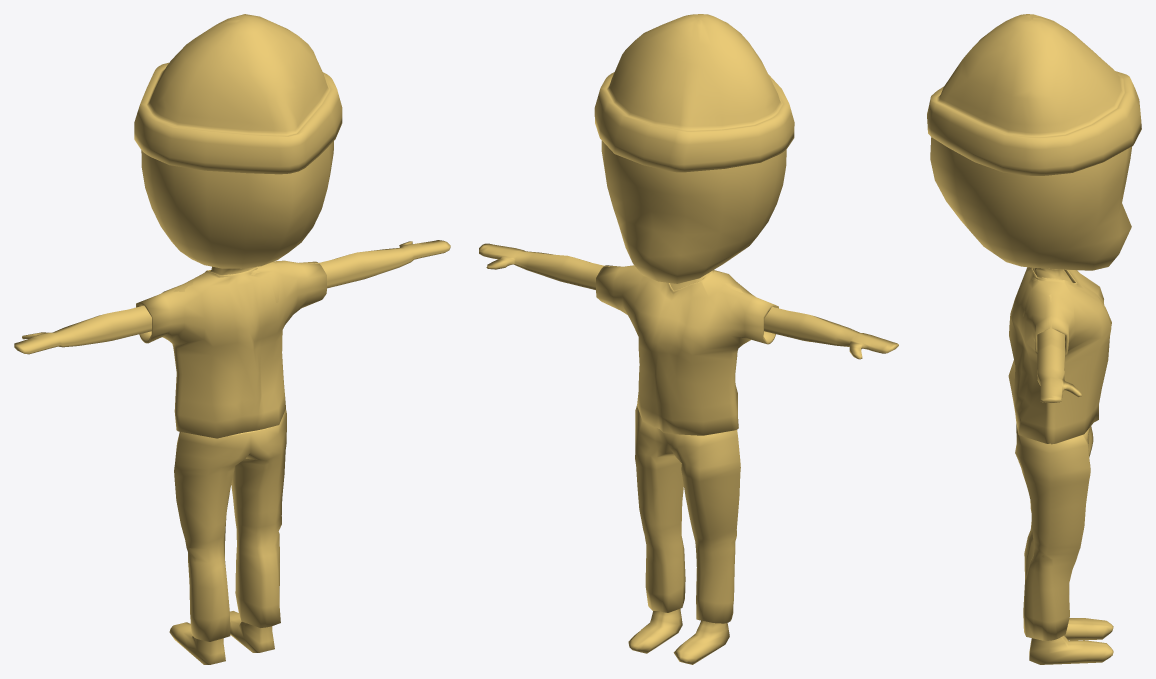
Rendered from chibiModel.fbx.
The picture shows the model from 3 angles, left to right: view 1: azimuth 30°, elevation 25°; view 2: azimuth 150°, elevation 25°; view 3: azimuth 270°, elevation 25°; orthographic projection. The views are drawn at different scales.
Visible parts, largest first — view 1: beanie, Cylinder.001, shirt, pants; view 2: Cylinder.001, beanie, shirt, pants; view 3: beanie, Cylinder.001, shirt, pants.
Part boxes in pixels (bbox=[...]): beanie: bbox=[134, 14, 342, 174]; Cylinder.001: bbox=[14, 141, 450, 664]; shirt: bbox=[136, 260, 326, 438]; pants: bbox=[174, 409, 286, 641]; Cylinder.001: bbox=[479, 140, 898, 664]; beanie: bbox=[594, 14, 794, 172]; shirt: bbox=[596, 265, 778, 435]; pants: bbox=[635, 406, 740, 623]; beanie: bbox=[927, 14, 1141, 175]; Cylinder.001: bbox=[930, 137, 1132, 664]; shirt: bbox=[1008, 267, 1111, 444]; pants: bbox=[1015, 424, 1093, 640].
Size of the model in its own units: 12.31 by 5.4 by 17.5.
